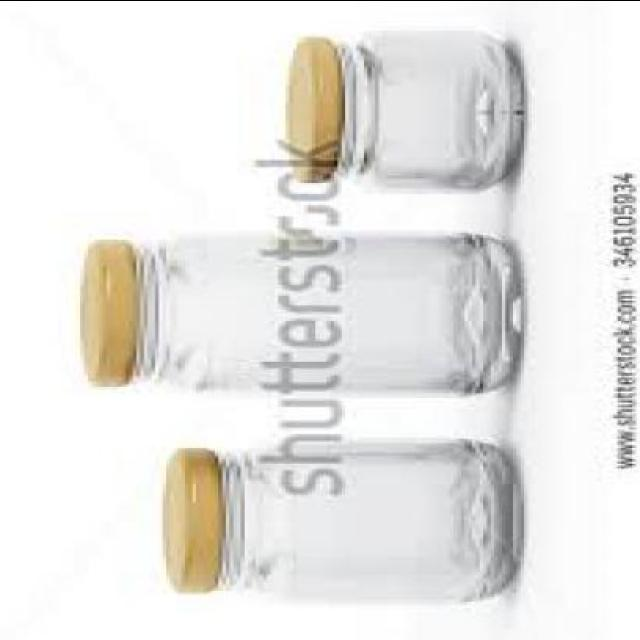kaca: (128, 234, 520, 396), (215, 442, 516, 600), (338, 35, 524, 196)
